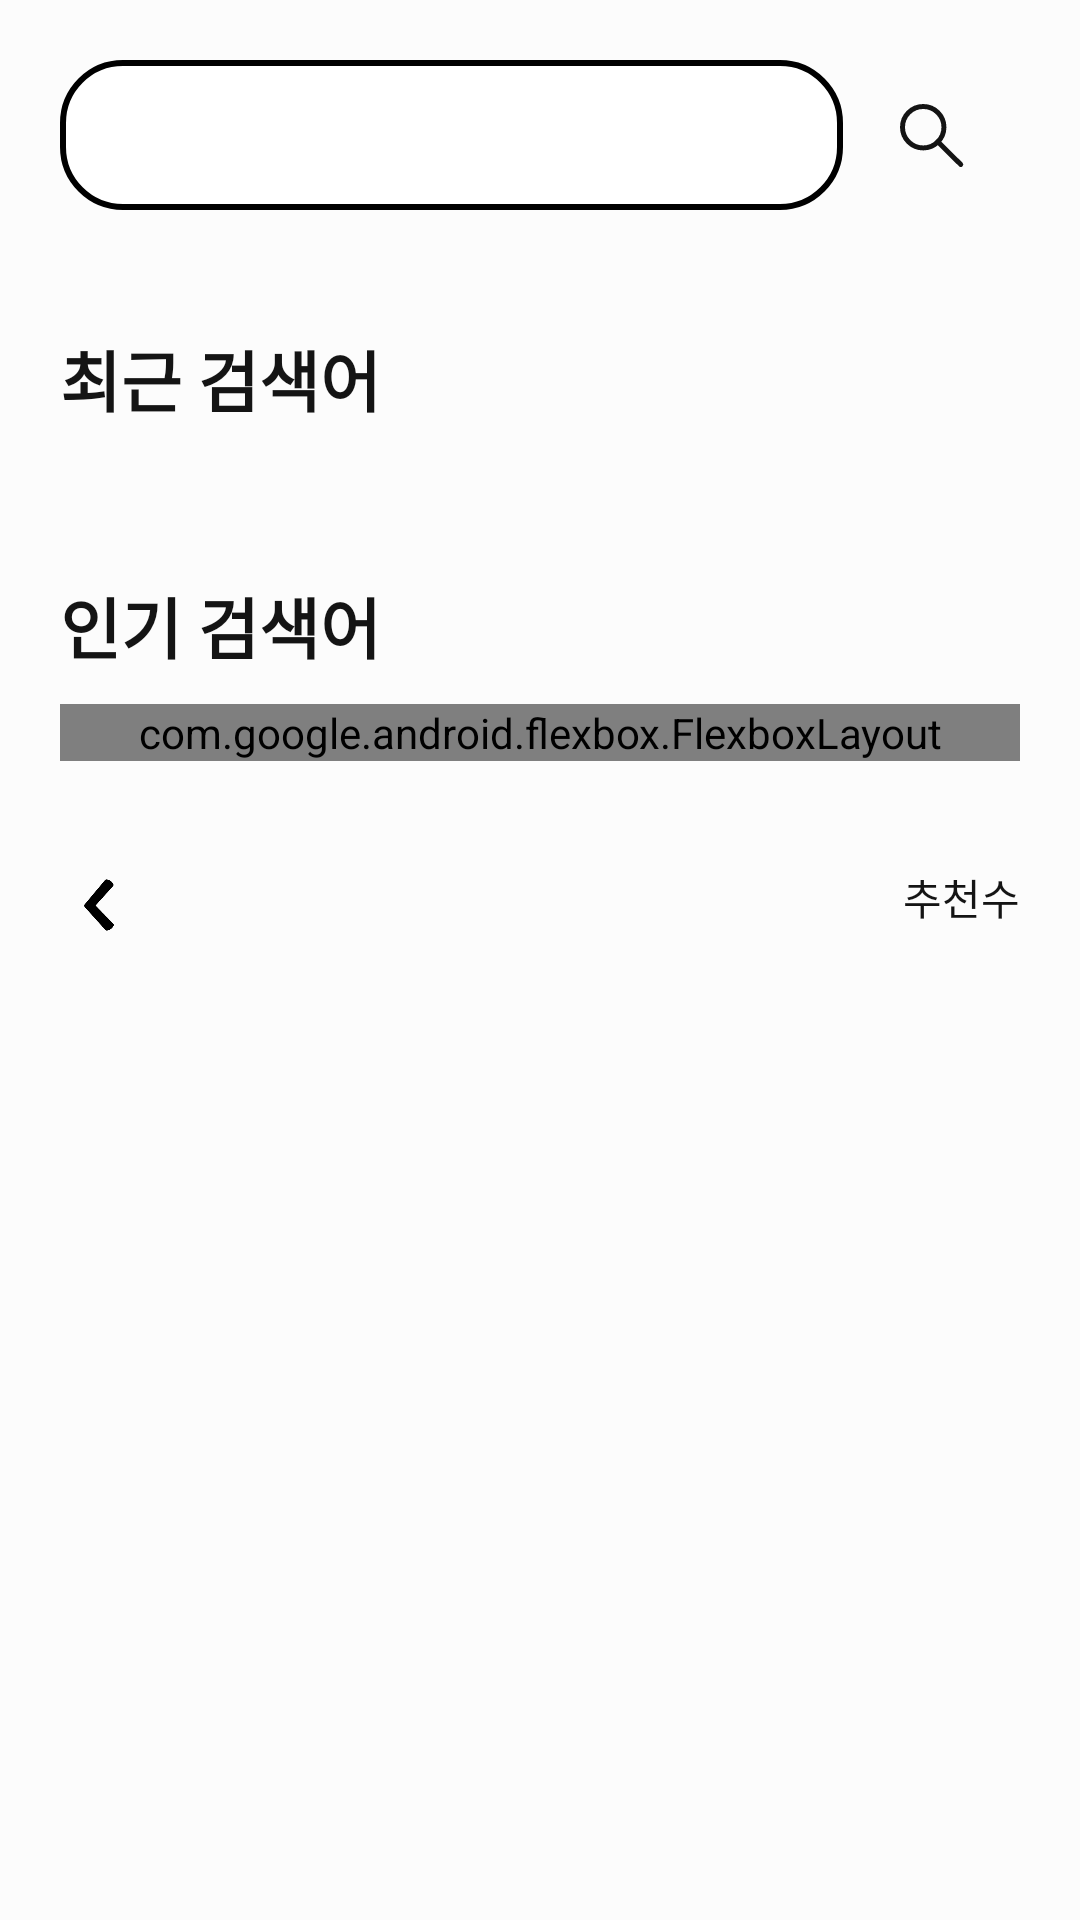

Locate icon controls on the screen. Image size 1080w x 1920h, boxes as bbox(x1, y1, x2, y2).
less than: bbox(84, 879, 114, 931)
search: bbox(900, 104, 964, 167)
